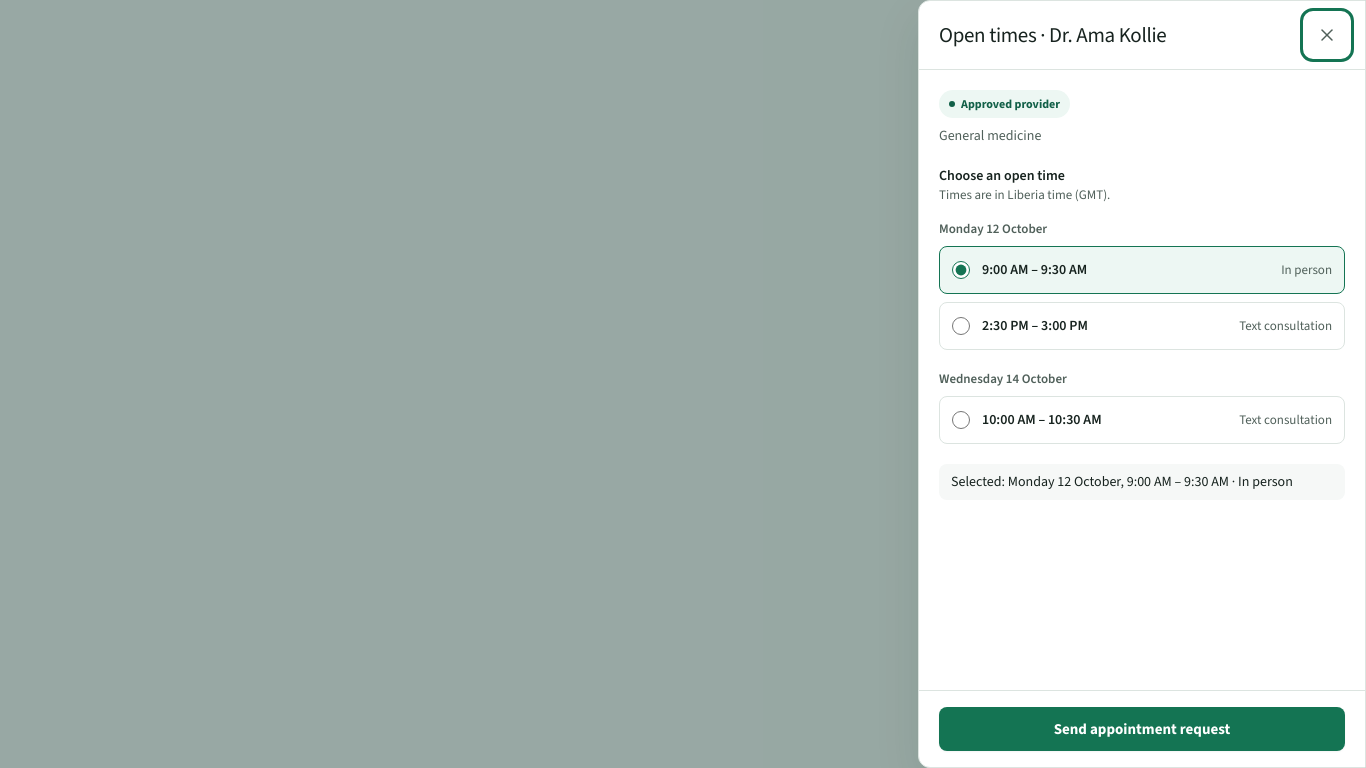
Scenario: AvailabilityDrawer › asks for a completed patient profile on the API's 409
The width and height of the screenshot is (1366, 768).
Click the button "Send appointment request": {"x": 1142, "y": 729} [939,707,1345,751]
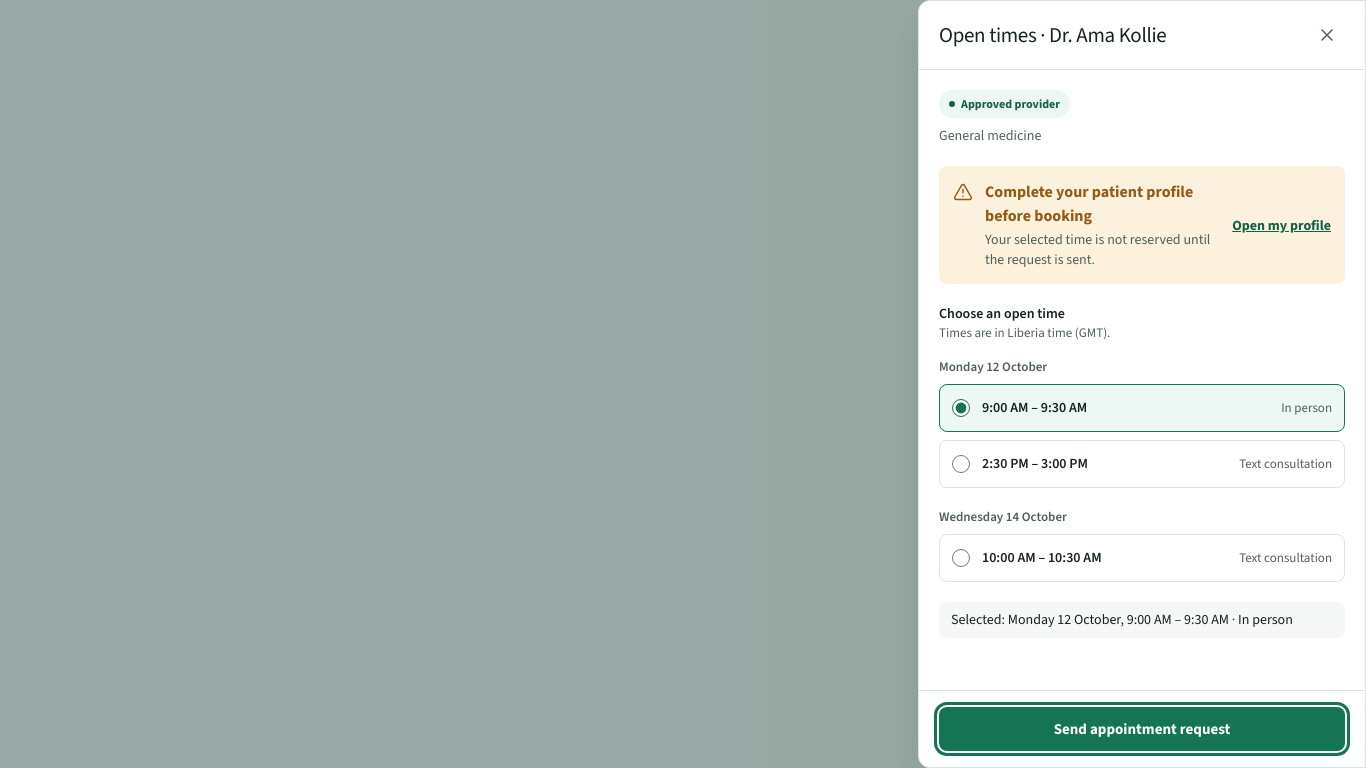
expect the 1st message shows "Complete your patient profile before booking": met, box [985,181,1193,226]
